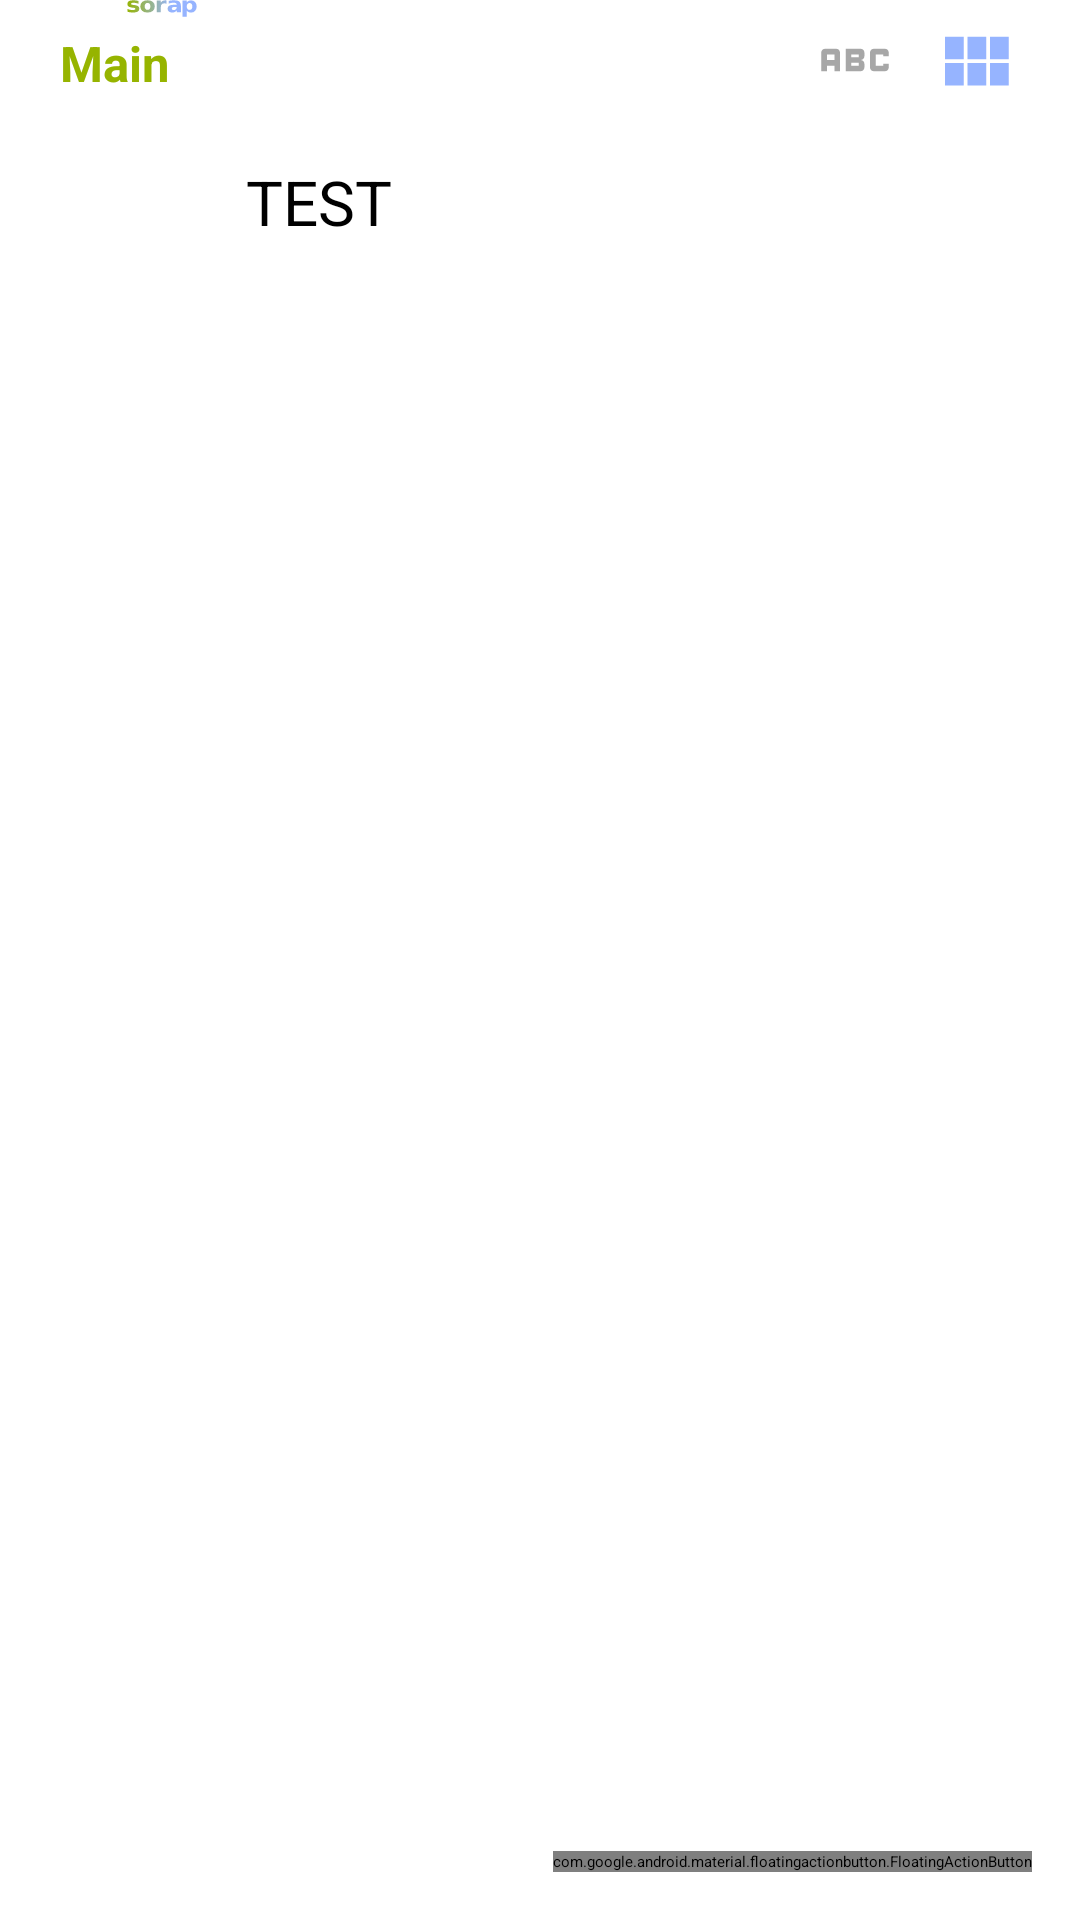

Where to tap for icons on this 1080px x 1920px app screen, as (x=x, y=y):
grid: (x=977, y=61)
